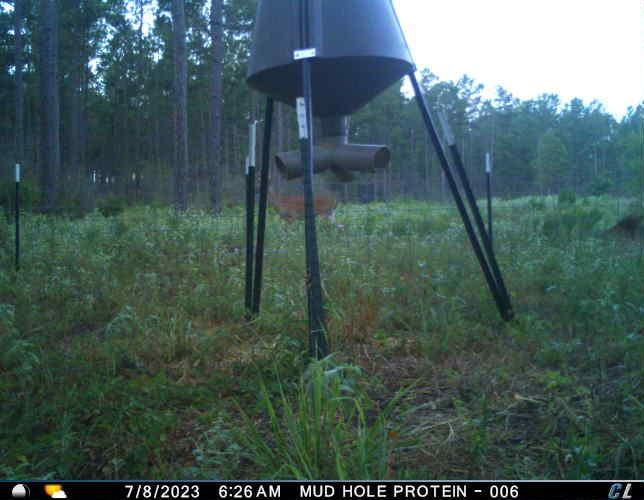Deer: (251, 174, 341, 229)
